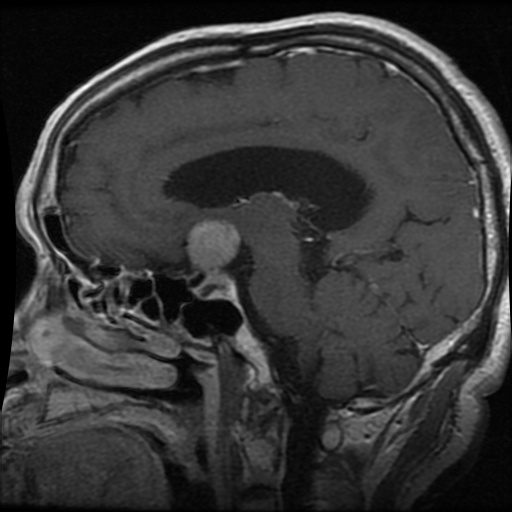pituitary: (186, 217, 240, 271)
